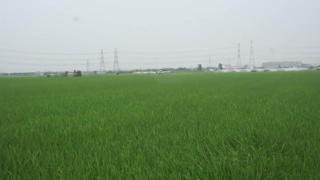UAV: (154, 70, 170, 75)
